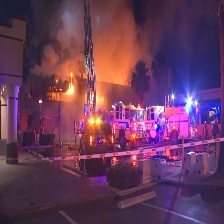fire: (55, 75, 78, 97), (85, 93, 107, 104)
smoke: (27, 3, 155, 75)
